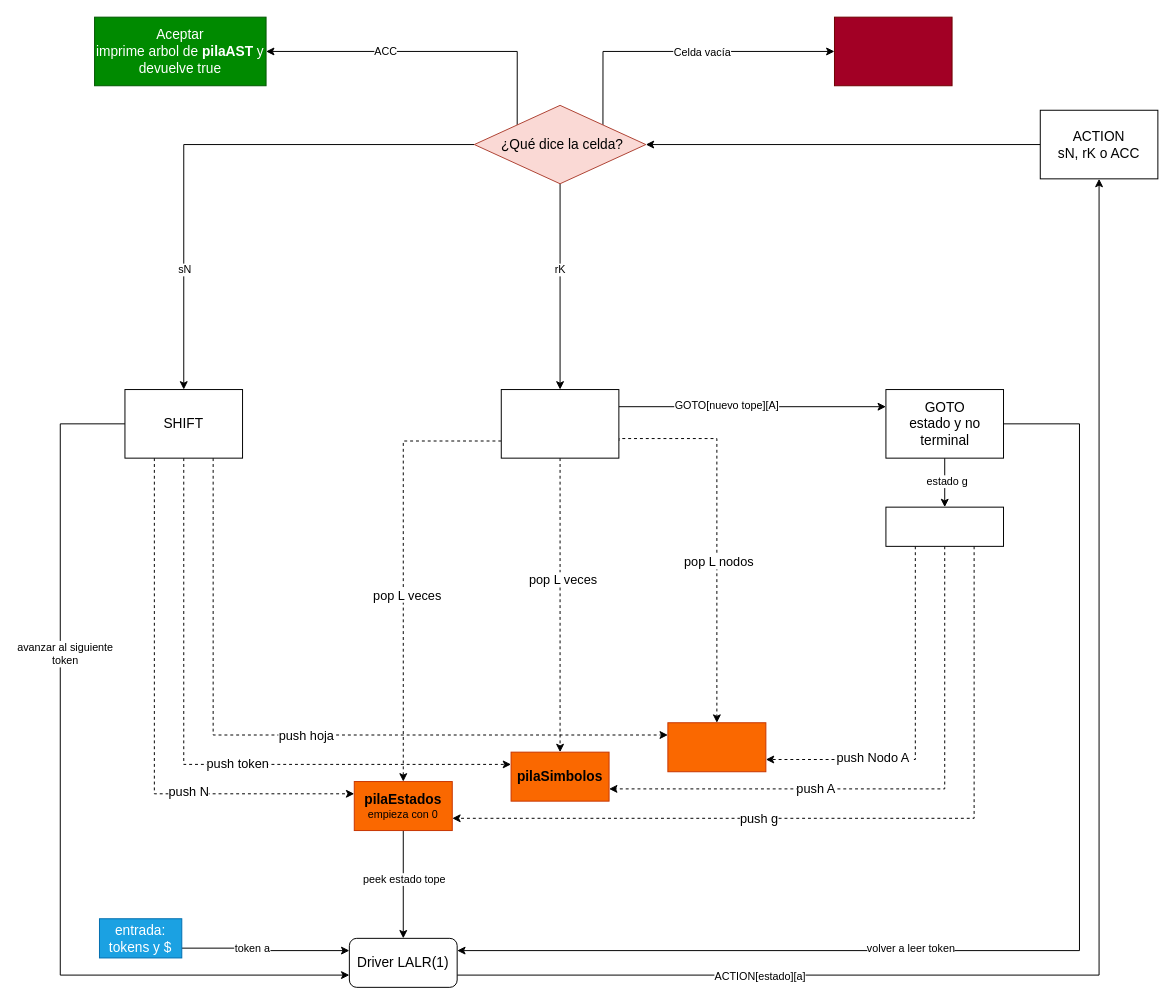
This 1175x1005 diagram has some shape labels left out. Each missing label, with the centre of its shape:
"Apilar resultado" belongs at (944,526).
"Error devuelve false" belongs at (892,51).
"pilaAST nodos del arbol" belongs at (716,747).
"REDUCE A -> β L = long de β" belongs at (559,423).
